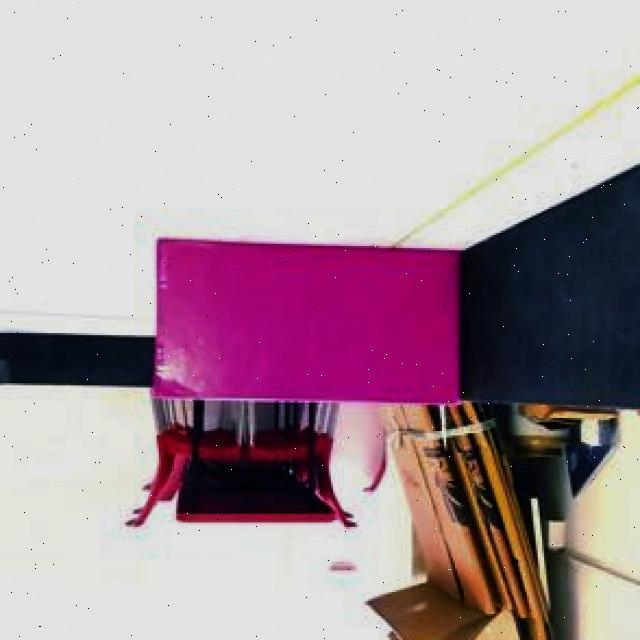xparking: (150, 239, 457, 405)
